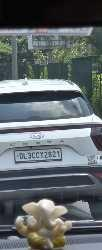License plate: (13, 148, 62, 163)
